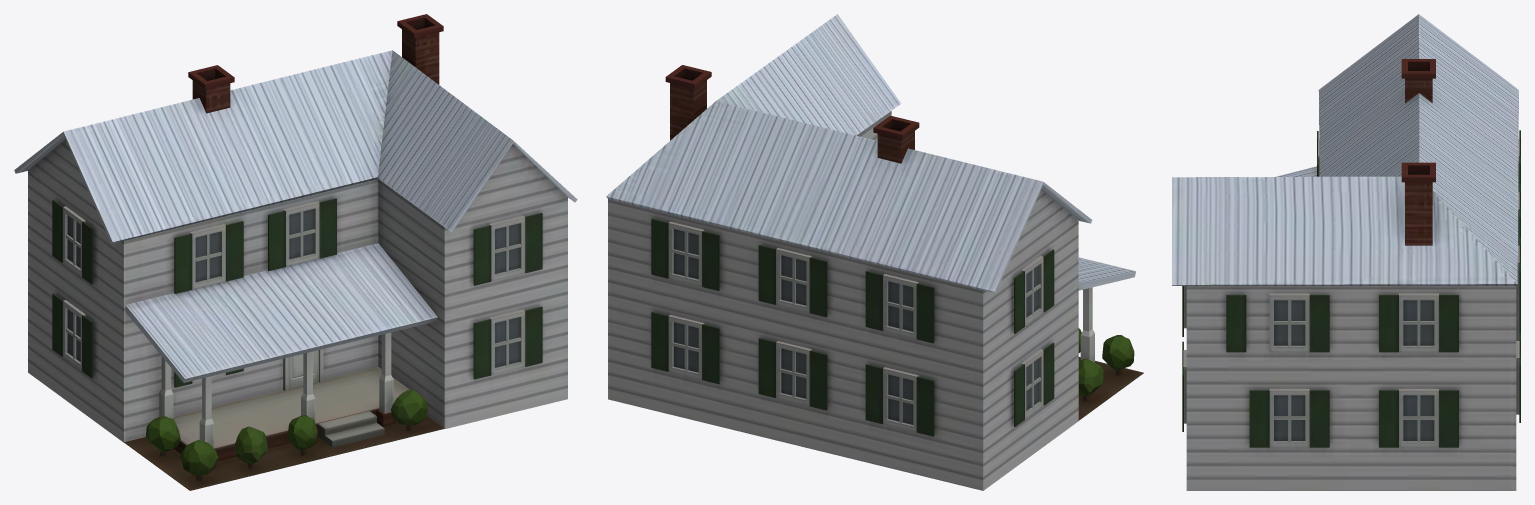
Rendered from house3.glb.
The picture shows the model from 3 angles, left to right: view 1: azimuth 30°, elevation 25°; view 2: azimuth 150°, elevation 25°; view 3: azimuth 270°, elevation 25°; orthographic projection. The views are drawn at different scales.
Visible parts, largest first — view 1: FarmHouse_Mesh; view 2: FarmHouse_Mesh; view 3: FarmHouse_Mesh.
Part boxes in pixels (<box>): FarmHouse_Mesh: <box>14,14,577,490</box>; FarmHouse_Mesh: <box>606,14,1143,490</box>; FarmHouse_Mesh: <box>1172,14,1520,490</box>.
Size of the model in its own units: 25.34 by 18.43 by 19.12.
Materials: 1 (1 with a texture image).
